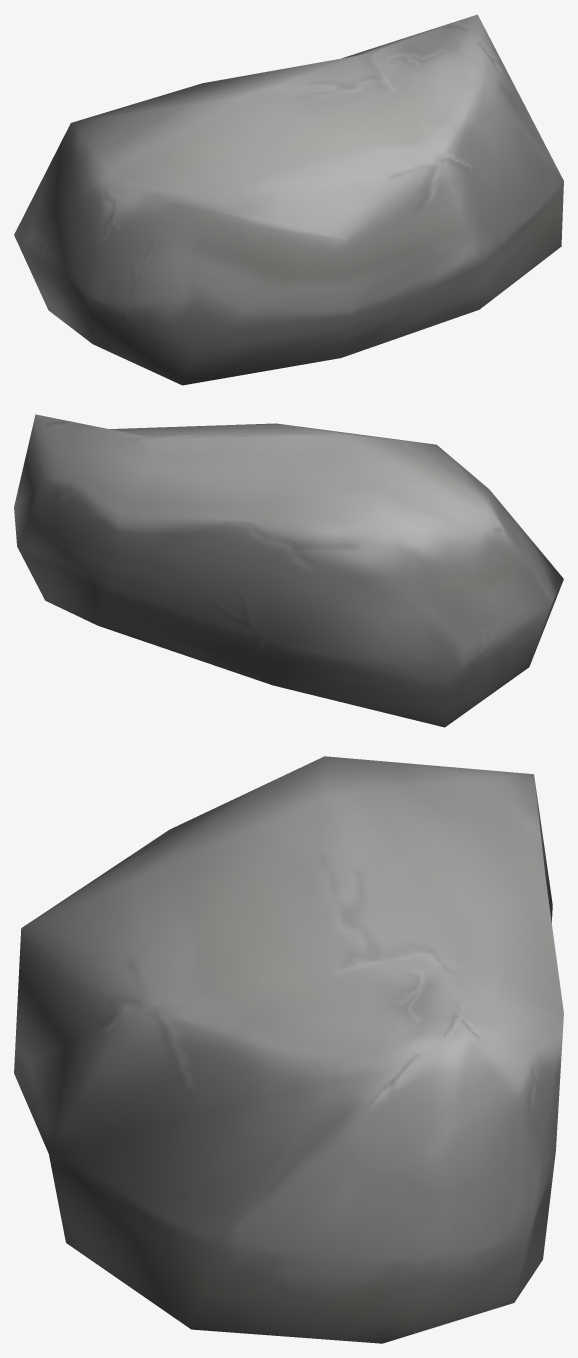
The model's file is Stone02.fbx.
3 views of the same model, one above another, from view 1: azimuth 30°, elevation 25°; view 2: azimuth 150°, elevation 25°; view 3: azimuth 270°, elevation 25° (orthographic). The views are drawn at different scales.
Parts seen in each view (by area): view 1: Stone02; view 2: Stone02; view 3: Stone02.
Boxes of the visible parts, x1,y1,x2,y2 form: Stone02: (14,14,563,385); Stone02: (14,414,563,727); Stone02: (14,756,563,1343).
Bounding box in the file's own units: 178 × 75.44 × 104.
